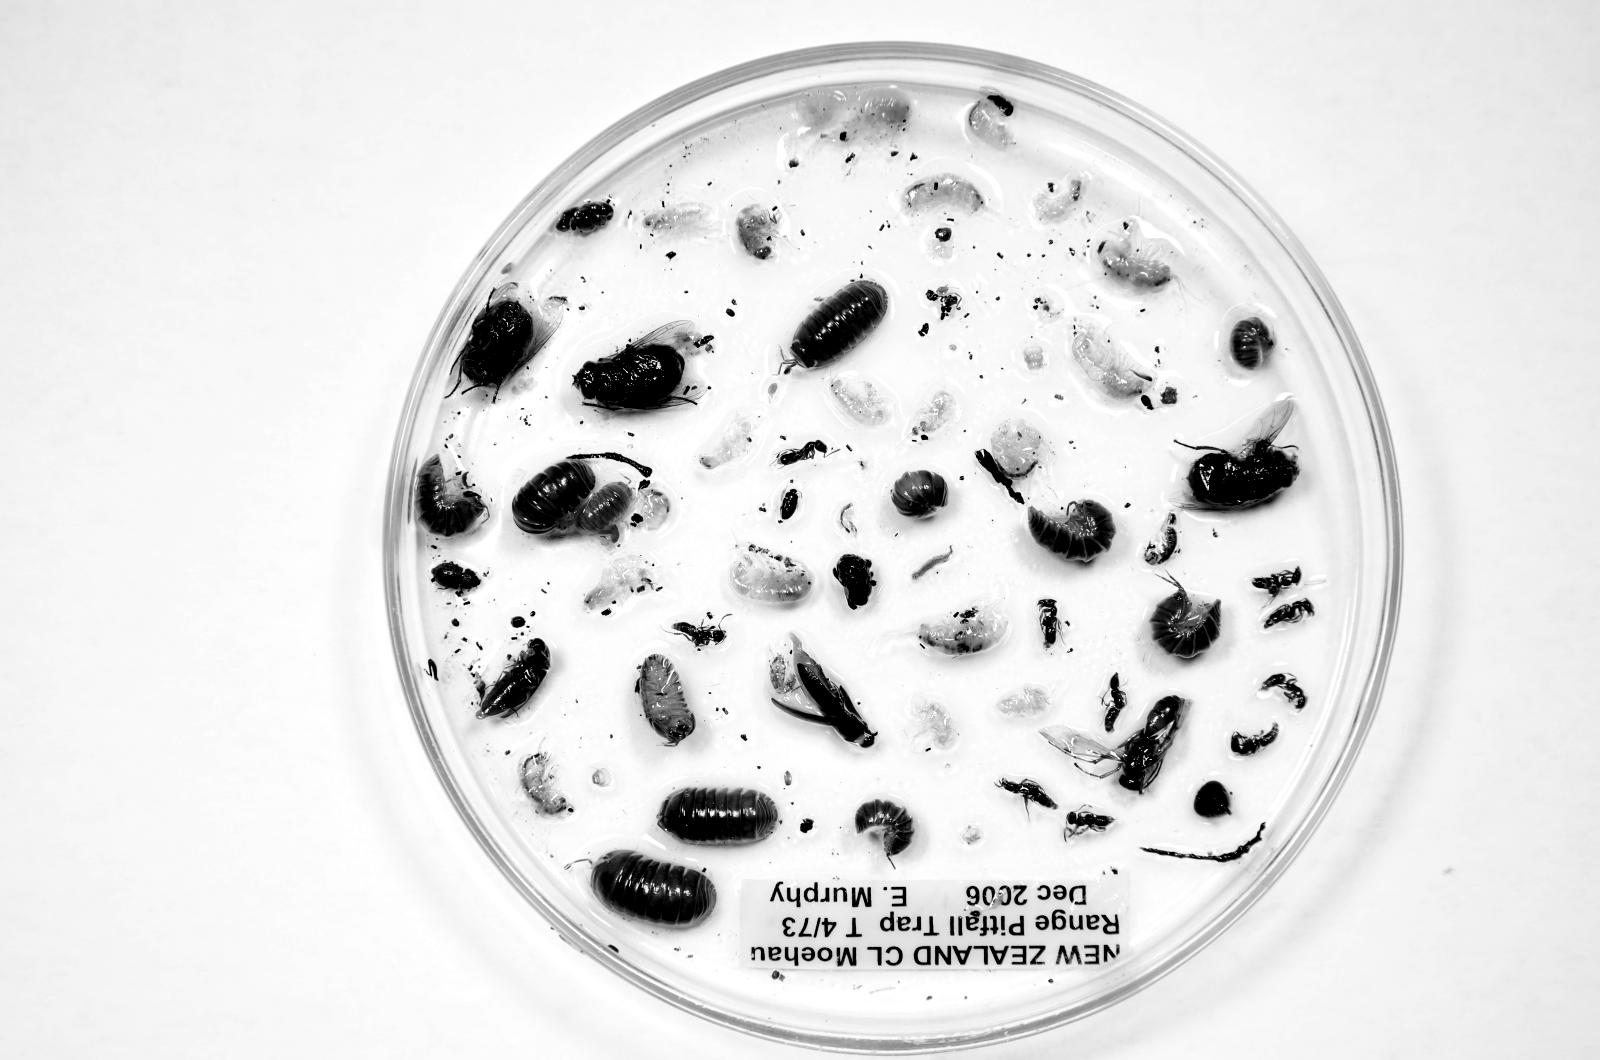amphipoda: (1071, 323, 1154, 401), (1094, 218, 1177, 292), (911, 601, 1009, 657), (730, 544, 812, 605), (583, 554, 659, 615), (990, 418, 1054, 483), (518, 749, 575, 817), (901, 173, 984, 218), (698, 414, 763, 470), (830, 377, 893, 427), (642, 201, 719, 241), (906, 696, 958, 752), (966, 95, 1017, 149), (908, 390, 957, 441), (736, 203, 779, 259), (631, 487, 672, 531)
coleoptera: (771, 633, 876, 748), (475, 638, 551, 718), (834, 554, 876, 609), (432, 561, 481, 596), (779, 487, 799, 522)
diptera: (1174, 395, 1300, 511), (574, 321, 714, 411), (456, 282, 566, 395)
formicidae: (996, 776, 1058, 814), (1063, 804, 1114, 841), (1259, 673, 1307, 710), (671, 619, 726, 649), (1262, 597, 1314, 629), (1230, 723, 1280, 756), (1101, 672, 1127, 733), (1251, 567, 1302, 597), (775, 440, 831, 466), (1037, 599, 1062, 649)
hymenoptera: (1041, 694, 1192, 793)
isopoda: (591, 849, 715, 927), (784, 279, 887, 369), (659, 786, 778, 845), (512, 460, 596, 536), (416, 455, 488, 537), (1149, 582, 1222, 659), (634, 654, 695, 744), (1028, 500, 1115, 563), (855, 799, 913, 859), (576, 481, 634, 535), (890, 470, 947, 517), (1229, 317, 1274, 370), (1142, 511, 1178, 565)
